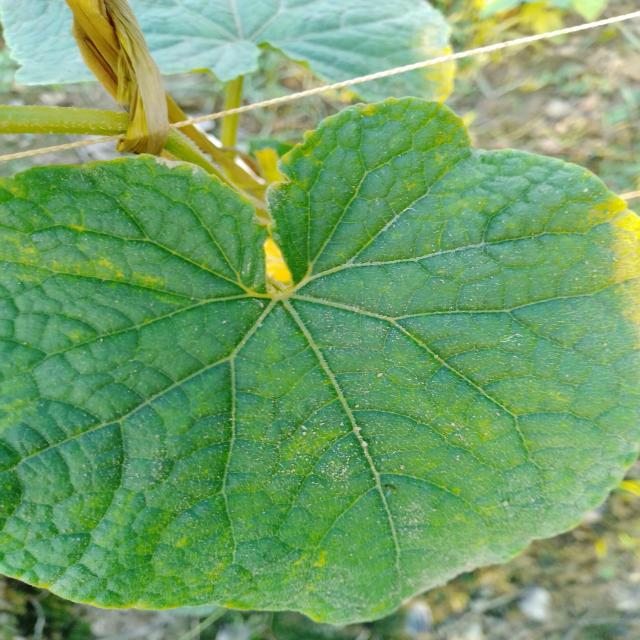cucumber_healthy: (0, 92, 640, 628)
